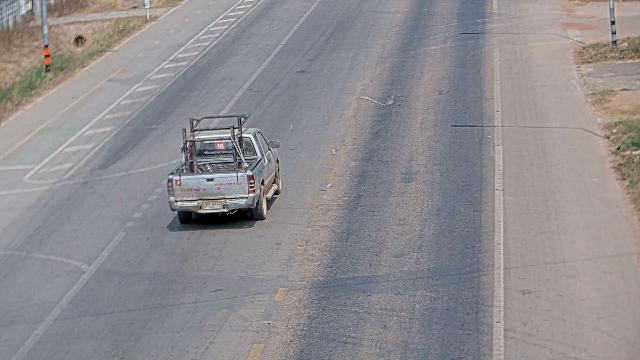pickup-truck: (166, 113, 282, 224)
